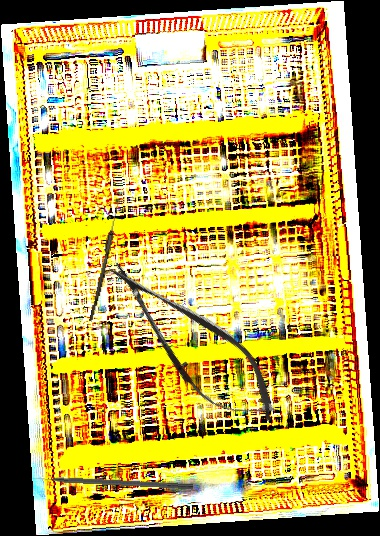Hook Surgical: (29, 473, 194, 490)
Micro Scissor: (87, 240, 296, 445)
Surgical Spoon: (89, 199, 121, 323)
